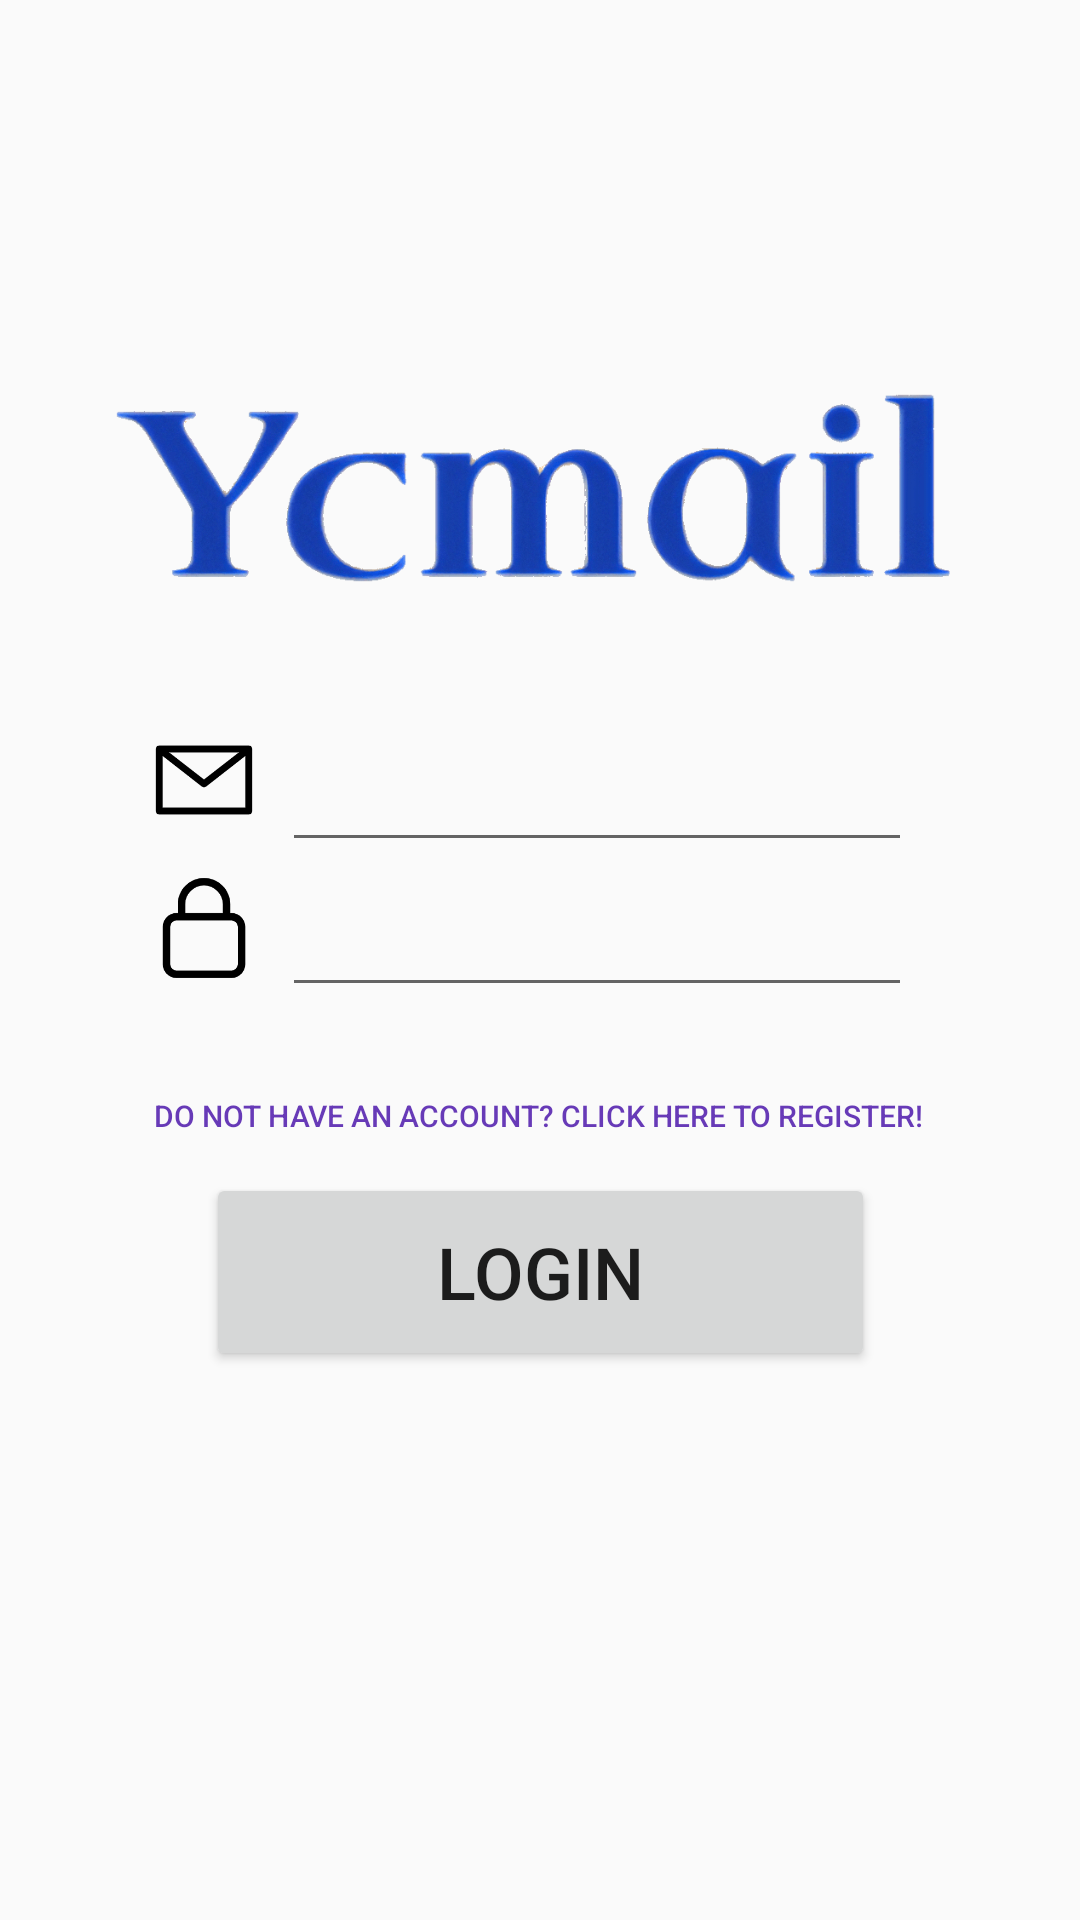

Icon click points for this 1080px×1920px phone screenshot, format [x,y]:
email: [204,780]
password: [204,928]
